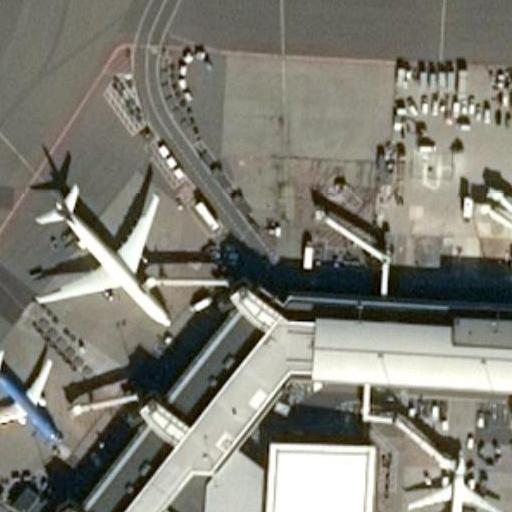Aircraft: (22, 173, 182, 334), (0, 337, 73, 456), (402, 450, 503, 512)
